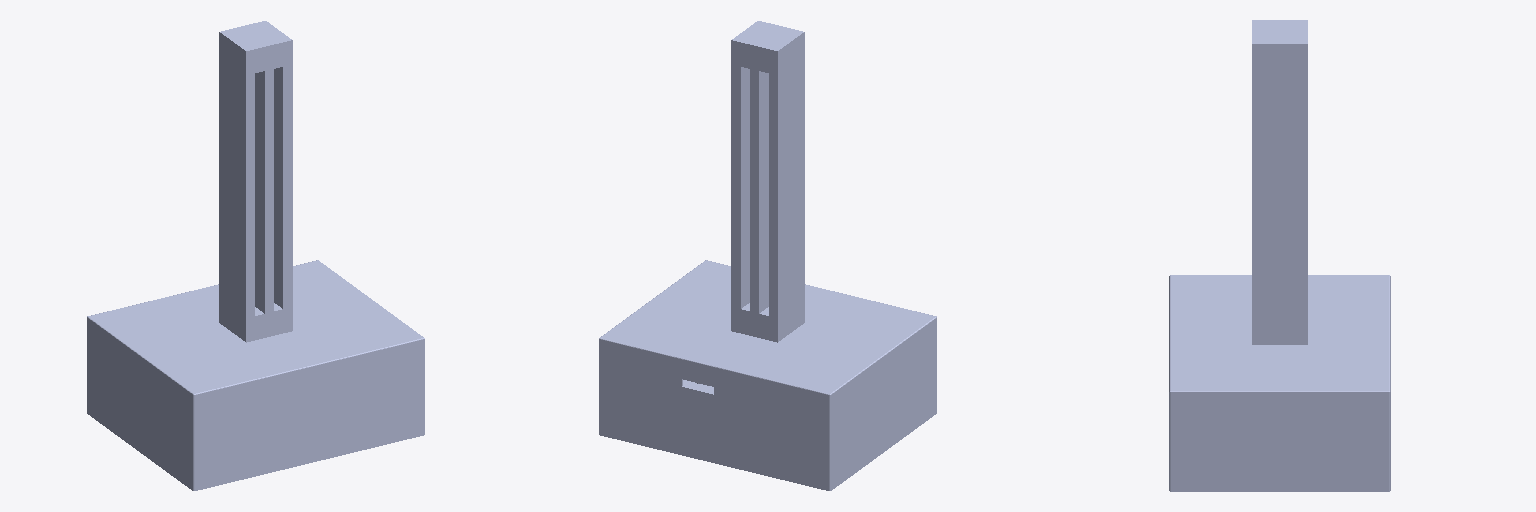
robot.urdf — robotuv:
<?xml version="1.0" encoding="utf-8"?>
<!-- This URDF was automatically created by SolidWorks to URDF Exporter! Originally created by [author] ([email redacted]) 
     Commit Version: 1.6.0-4-g7f85cfe  Build Version: 1.6.7995.38578
     For more information, please see http://wiki.ros.org/sw_urdf_exporter -->
<robot
  name="robotuv">

  <link name="base_footprint"/>

  <joint name="base_joint" type="fixed">
    <parent link="base_footprint"/>
    <child link="base_link"/>
    <origin xyz="0.0 0.0 0.010" rpy="0 0 0"/>
  </joint>

  <link
    name="base_link">
    <inertial>
      <origin
        xyz="-0.00107881920825839 0.0211485129918397 -0.00128742258048919"
        rpy="0 0 0" />
      <mass
        value="1.55786589047036" />
      <inertia
        ixx="0.0841848024339523"
        ixy="-0.000125051767145333"
        ixz="-0.00161954165264875"
        iyy="0.0938388928064463"
        iyz="-0.00013190022083076"
        izz="0.0461862484489722" />
    </inertial>
    <visual>
      <origin
        xyz="0 0 0"
        rpy="0 0 0" />
      <geometry>
        <mesh
          filename="package://robotuv/meshes/base_link.STL" />
      </geometry>
      <material
        name="">
        <color
          rgba="0.792156862745098 0.819607843137255 0.933333333333333 1" />
      </material>
    </visual>
    <collision>
      <origin
        xyz="0 0 0"
        rpy="0 0 0" />
      <geometry>
        <mesh
          filename="package://robotuv/meshes/base_link.STL" />
      </geometry>
    </collision>
  </link>


  <link
    name="linkleft">
    <inertial>
      <origin
        xyz="3.172850870925E-08 0.000221252590552168 -7.73712760526735E-11"
        rpy="0 0 0" />
      <mass
        value="0.448182712521403" />
      <inertia
        ixx="0.000398732115195759"
        ixy="-7.20526104896062E-10"
        ixz="-9.60732951326033E-12"
        iyy="0.000597684611816001"
        iyz="-7.24883291603929E-11"
        izz="0.000398732112686358" />
    </inertial>
    <visual>
      <origin
        xyz="0 0 0"
        rpy="0 0 0" />
      <geometry>
        <mesh
          filename="package://robotuv/meshes/linkleft.STL" />
      </geometry>
      <material
        name="">
        <color
          rgba="0.792156862745098 0.819607843137255 0.933333333333333 1" />
      </material>
    </visual>
    <collision>
      <origin
        xyz="0 0 0"
        rpy="0 0 0" />
      <geometry>
        <mesh
          filename="package://robotuv/meshes/linkleft.STL" />
      </geometry>
    </collision>
  </link>
  <joint
    name="leftjoint"
    type="continuous">
    <origin
      xyz="-0.18 0.13645 -0.16"
      rpy="0 0 0" />
    <parent
      link="base_link" />
    <child
      link="linkleft" />
    <axis
      xyz="0 1 0" />
    <limit
      effort="1"
      velocity="1" />
  </joint>


  <link
    name="linkright">
    <inertial>
      <origin
        xyz="-7.00617303062145E-09 -0.000221252590552168 -3.09454001590215E-08"
        rpy="0 0 0" />
      <mass
        value="0.448182712521402" />
      <inertia
        ixx="0.000398732108630963"
        ixy="-2.31476397075009E-10"
        ixz="-8.1041927411806E-12"
        iyy="0.000597684611816"
        iyz="-6.86171336690667E-10"
        izz="0.000398732119251153" />
    </inertial>
    <visual>
      <origin
        xyz="0 0 0"
        rpy="0 0 0" />
      <geometry>
        <mesh
          filename="package://robotuv/meshes/linkright.STL" />
      </geometry>
      <material
        name="">
        <color
          rgba="0.792156862745098 0.819607843137255 0.933333333333333 1" />
      </material>
    </visual>
    <collision>
      <origin
        xyz="0 0 0"
        rpy="0 0 0" />
      <geometry>
        <mesh
          filename="package://robotuv/meshes/linkright.STL" />
      </geometry>
    </collision>
  </link>


  <joint
    name="rightjoint"
    type="continuous">
    <origin
      xyz="-0.185 -0.13645 -0.16"
      rpy="0 0 0" />
    <parent
      link="base_link" />
    <child
      link="linkright" />
    <axis
      xyz="0 -1 0" />
    <limit
      effort="1"
      velocity="1" />
  </joint>
  <link
    name="linkleftcaster">
    <inertial>
      <origin
        xyz="3.46944695195361E-18 1.11022302462516E-16 0.00300279532947036"
        rpy="0 0 0" />
      <mass
        value="0.00899097637518619" />
      <inertia
        ixx="3.95016690231648E-07"
        ixy="4.26825196077363E-23"
        ixz="-2.79183587584397E-23"
        iyy="3.95016690231648E-07"
        iyz="-3.34165120370398E-24"
        izz="5.51492957134569E-07" />
    </inertial>
    <visual>
      <origin
        xyz="0 0 0"
        rpy="0 0 0" />
      <geometry>
        <mesh
          filename="package://robotuv/meshes/linkleftcaster.STL" />
      </geometry>
      <material
        name="">
        <color
          rgba="0.647058823529412 0.619607843137255 0.584313725490196 1" />
      </material>
    </visual>
    <collision>
      <origin
        xyz="0 0 0"
        rpy="0 0 0" />
      <geometry>
        <mesh
          filename="package://robotuv/meshes/linkleftcaster.STL" />
      </geometry>
    </collision>
  </link>


  <joint
    name="leftcasterjoint"
    type="continuous">
    <origin
      xyz="0.2 0.1 -0.2085"
      rpy="0 0 0" />
    <parent
      link="base_link" />
    <child
      link="linkleftcaster" />
    <axis
      xyz="0 0 1" />
    <limit
      effort="1"
      velocity="1" />
  </joint>
  <link
    name="linkrightcaster">
    <inertial>
      <origin
        xyz="3.46944695195361E-18 0 0.00300279532947036"
        rpy="0 0 0" />
      <mass
        value="0.00899097637518619" />
      <inertia
        ixx="3.95016690231648E-07"
        ixy="-2.36849382061017E-23"
        ixz="-2.72717313801967E-23"
        iyy="3.95016690231648E-07"
        iyz="9.70558585395553E-24"
        izz="5.51492957134569E-07" />
    </inertial>
    <visual>
      <origin
        xyz="0 0 0"
        rpy="0 0 0" />
      <geometry>
        <mesh
          filename="package://robotuv/meshes/linkrightcaster.STL" />
      </geometry>
      <material
        name="">
        <color
          rgba="0.647058823529412 0.619607843137255 0.584313725490196 1" />
      </material>
    </visual>
    <collision>
      <origin
        xyz="0 0 0"
        rpy="0 0 0" />
      <geometry>
        <mesh
          filename="package://robotuv/meshes/linkrightcaster.STL" />
      </geometry>
    </collision>
  </link>
  <joint
    name="rightcasterjoint"
    type="continuous">
    <origin
      xyz="0.2 -0.1 -0.2085"
      rpy="0 0 0" />
    <parent
      link="base_link" />
    <child
      link="linkrightcaster" />
    <axis
      xyz="0 0 1" />
    <limit
      effort="1"
      velocity="1" />
  </joint>

  <joint name="imu" type="fixed">
    <parent link="base_footprint"/>
    <child link="imu"/>
    <origin xyz="0.0 0 0.0" rpy="0 0 0"/>
  </joint>
  <link name="imu"/>


 <joint name="scan_joint" type="fixed">
    <parent link="base_link"/>
    <child link="scan"/>
    <origin xyz="0 0 0.0" rpy="0 0 0"/>
  </joint>

  <link name="scan">
    <visual>
      <origin xyz="0.0 0 0.0" rpy="0 0 0"/>
      <geometry>
        <mesh filename="package://robotuv/meshes/lds.stl" scale="0.001 0.001 0.001"/>
      </geometry>
      <material name="dark"/>
    </visual>

    <collision>
      <origin xyz="0.0 0 0.0" rpy="0 0 0"/>
      <geometry>
        <cylinder length="0.0315" radius="0.055"/>
      </geometry>
    </collision>

    <inertial>
      <mass value="0.114" />
      <origin xyz="0 0 0" />
      <inertia ixx="0.001" ixy="0.0" ixz="0.0"
               iyy="0.001" iyz="0.0"
               izz="0.001" />
    </inertial>
  </link>

</robot>

--- What the picture shows (computed from the rendered views, not written in the file) ---
Views: 3 orthographic renders of the robot side by side, from view 1: azimuth 30°, elevation 25°; view 2: azimuth 150°, elevation 25°; view 3: azimuth 270°, elevation 25°.
Robot: robotuv — 8 links, 7 joints (4 continuous, 3 fixed); root link base_footprint; default pose: every joint at zero.
Visible links, largest first — view 1: base_link; view 2: base_link; view 3: base_link.
Boxes of the visible links, x1,y1,x2,y2 form: base_link: [87, 21, 424, 490]; base_link: [599, 21, 936, 490]; base_link: [1169, 20, 1390, 491].
Bounding box of the posed robot: 0.5 × 0.4 × 0.818 m (x, y, z).
5 mesh visuals loaded from 6 distinct referenced files (5 binary STL); not drawn: 1 (reference not matched to a file when rendering).